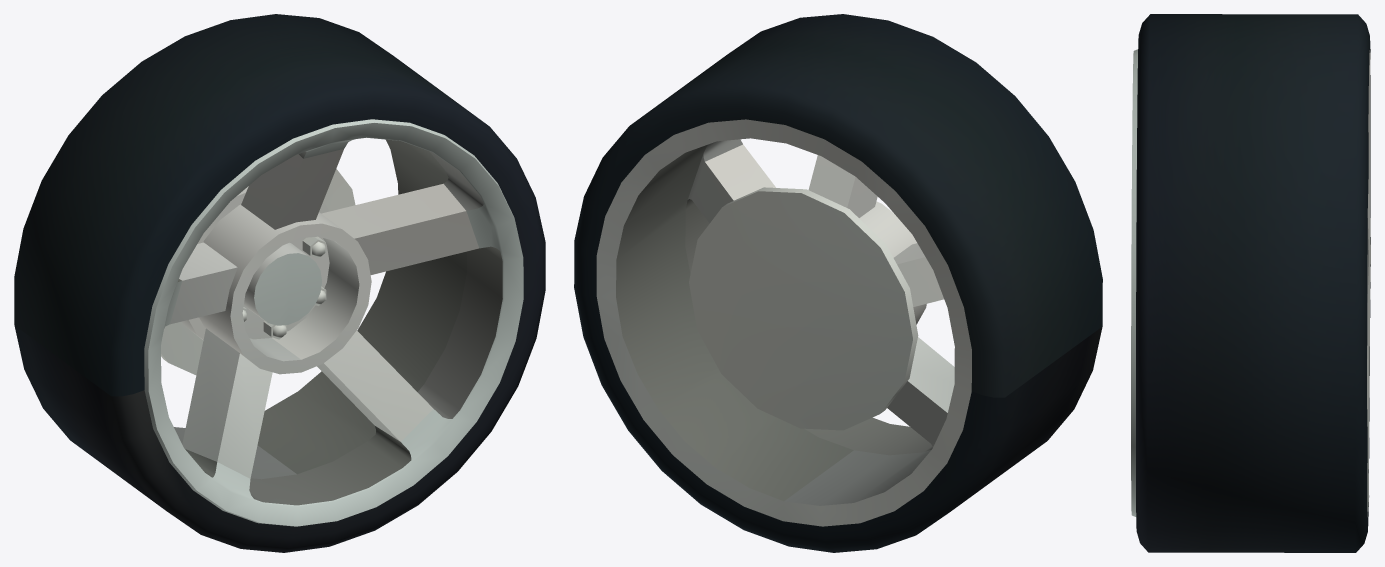
The model's file is LlantaDerTras.obj.
The picture shows the model from 3 angles, left to right: view 1: azimuth 30°, elevation 25°; view 2: azimuth 150°, elevation 25°; view 3: azimuth 270°, elevation 25°; orthographic projection. The views are drawn at different scales.
Visible parts, largest first — view 1: DrawCall_0184, DrawCall_0321, DrawCall_0316; view 2: DrawCall_0184, DrawCall_0321; view 3: DrawCall_0184, DrawCall_0316, DrawCall_0321.
Part boxes in pixels (box(x1,y1,x2,y2)): DrawCall_0184: box(14, 14, 545, 552); DrawCall_0321: box(170, 139, 502, 505); DrawCall_0316: box(144, 119, 523, 526); DrawCall_0184: box(574, 14, 1102, 552); DrawCall_0321: box(596, 119, 971, 526); DrawCall_0184: box(1136, 14, 1370, 552); DrawCall_0316: box(1131, 49, 1137, 516); DrawCall_0321: box(1367, 50, 1370, 516).
Bounding box in the file's own units: 9.6 × 9.65 × 4.3.
